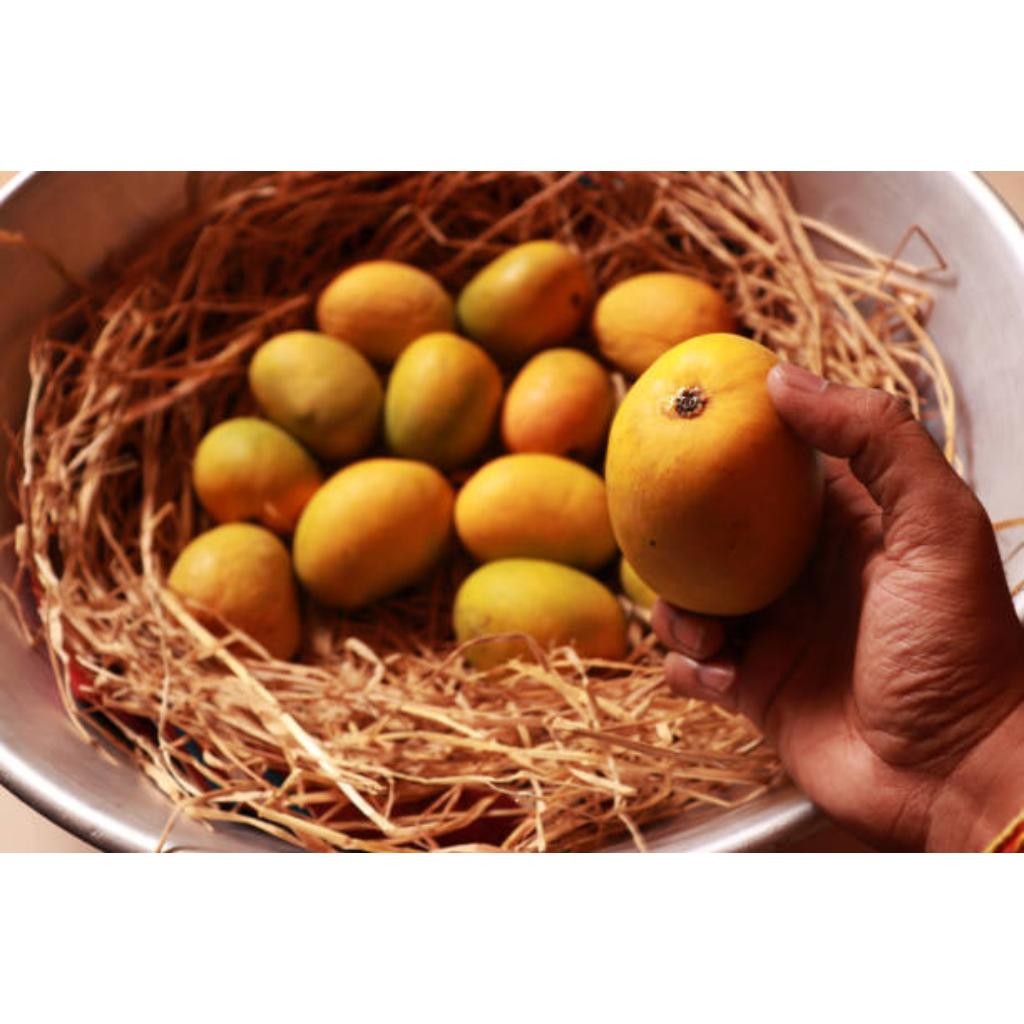mango: (606, 333, 824, 616), (294, 459, 454, 608), (452, 559, 628, 670), (456, 453, 616, 568), (168, 523, 300, 658), (248, 331, 384, 460), (456, 241, 592, 362), (384, 333, 502, 468), (194, 417, 322, 534), (592, 273, 734, 374), (316, 263, 454, 362), (504, 349, 612, 458)
